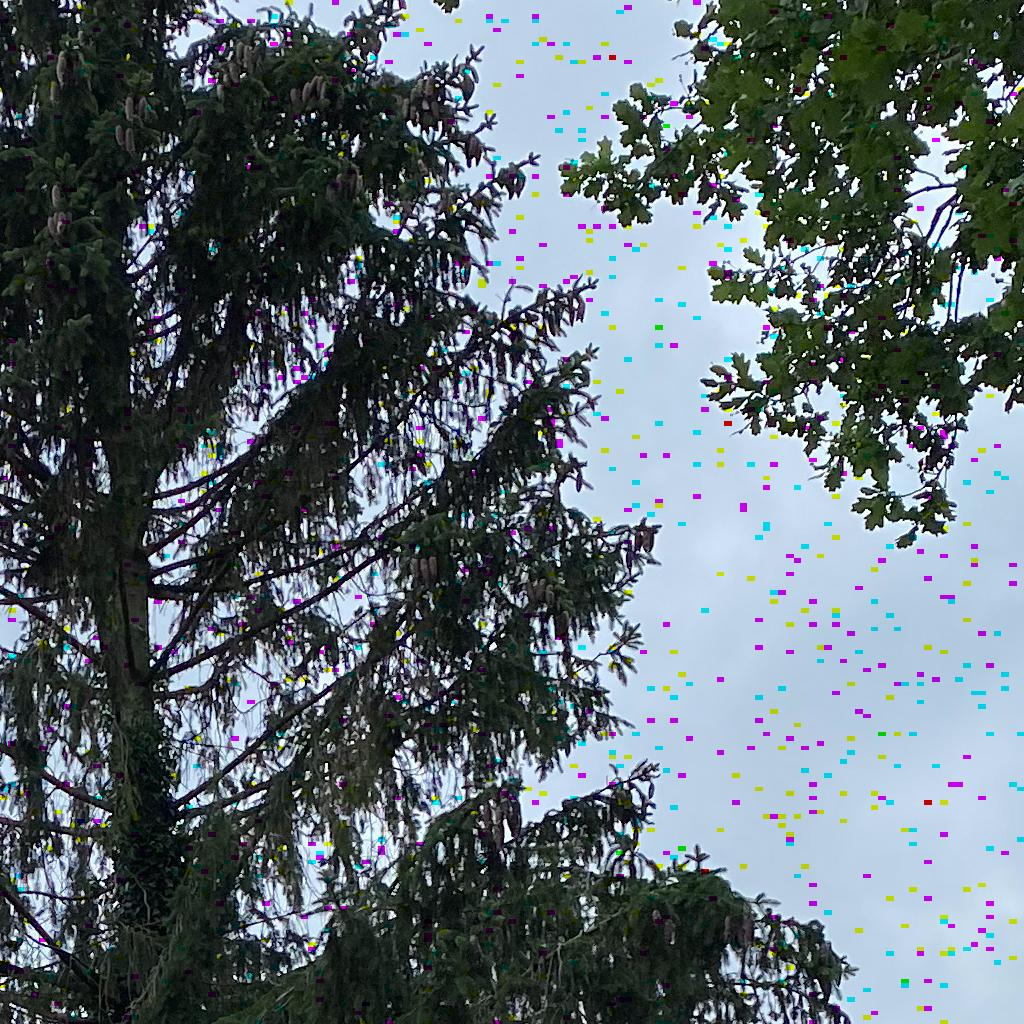tree: (1, 1, 859, 1024), (559, 1, 1024, 549)
